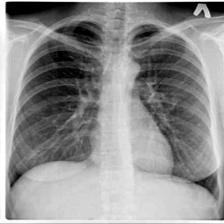tuberculosis: (7, 15, 222, 223)
